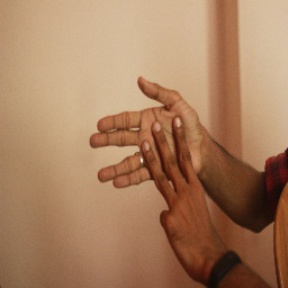M: (75, 76, 214, 230)
